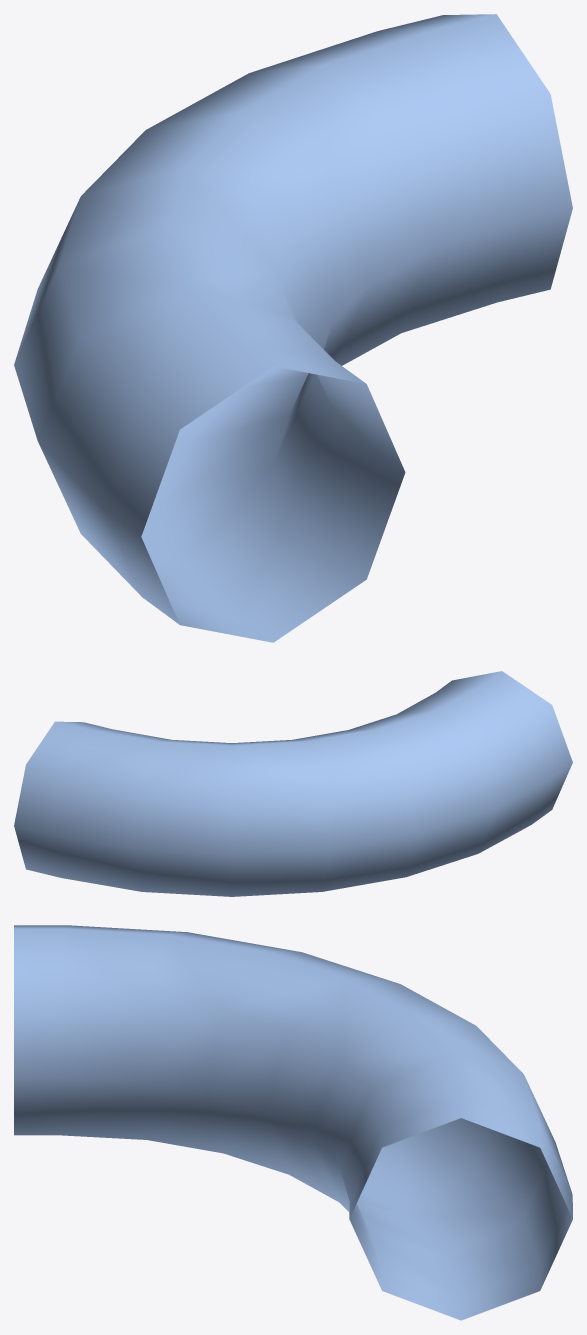
The model's file is PipeSmall_Bent_02.fbx.
3 views of the same model, one above another, from view 1: azimuth 30°, elevation 25°; view 2: azimuth 150°, elevation 25°; view 3: azimuth 270°, elevation 25° (orthographic). The views are drawn at different scales.
Parts seen in each view (by area): view 1: PipeSmall_Bent_02.001; view 2: PipeSmall_Bent_02.001; view 3: PipeSmall_Bent_02.001.
Part boxes in pixels (left/top/right/bottom): PipeSmall_Bent_02.001: left=14, top=14, right=572, bottom=642; PipeSmall_Bent_02.001: left=14, top=671, right=572, bottom=896; PipeSmall_Bent_02.001: left=14, top=925, right=572, bottom=1320.
Size of the model in its own units: 0.25 by 0.1 by 0.25.
